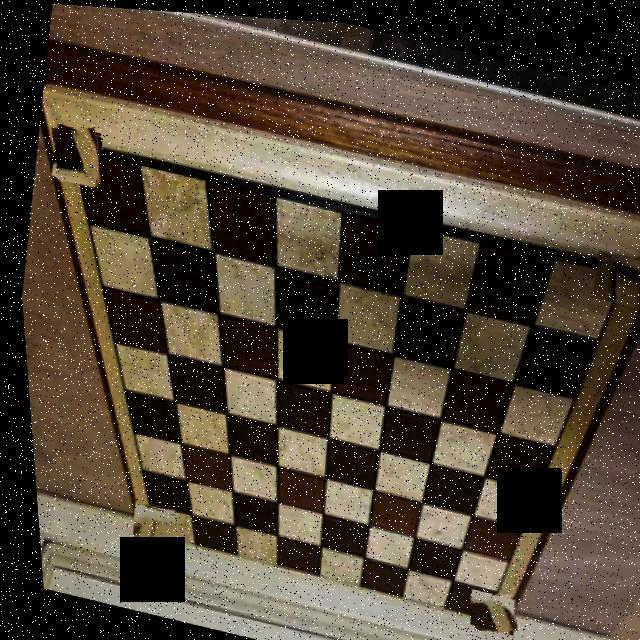chess-table-corners: (42, 119, 104, 188), (586, 240, 640, 300), (120, 499, 174, 551), (456, 580, 512, 630)
